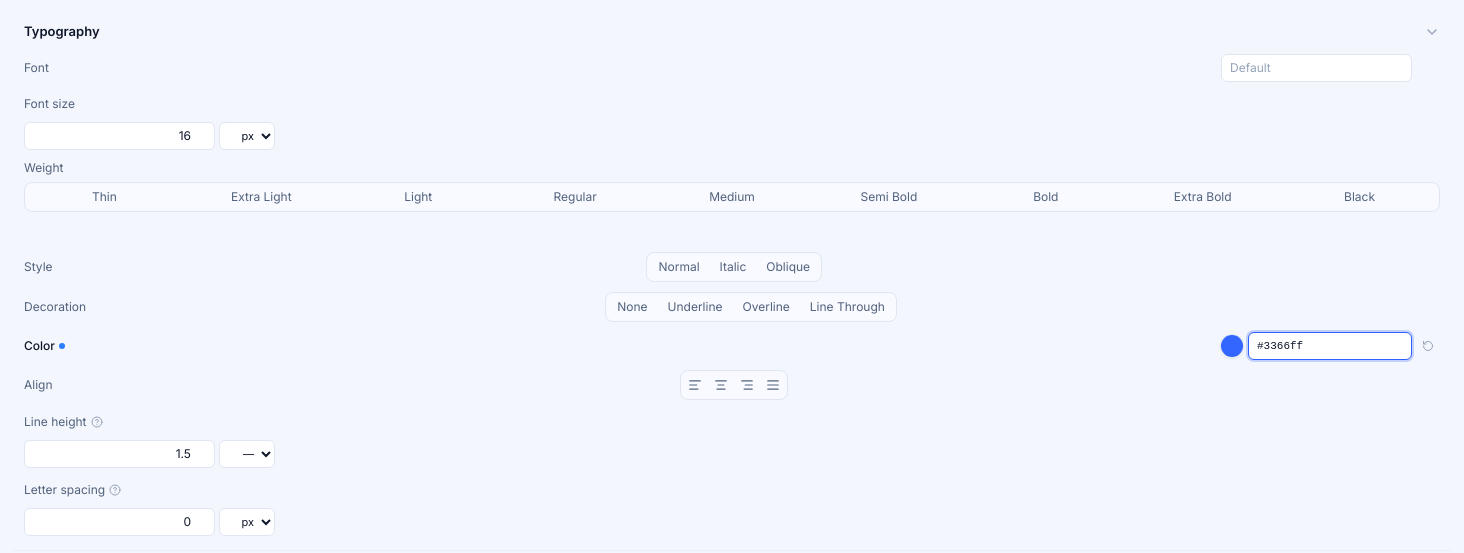
InspectorTypographySection › Text color edit sessions against the real store (BC-01.2) › Escape discards a changed color: document, history and dirty state untouched
Replace the text in the field named "Text color" with "#00ff00": (1330, 346) [1248, 332, 1412, 360]
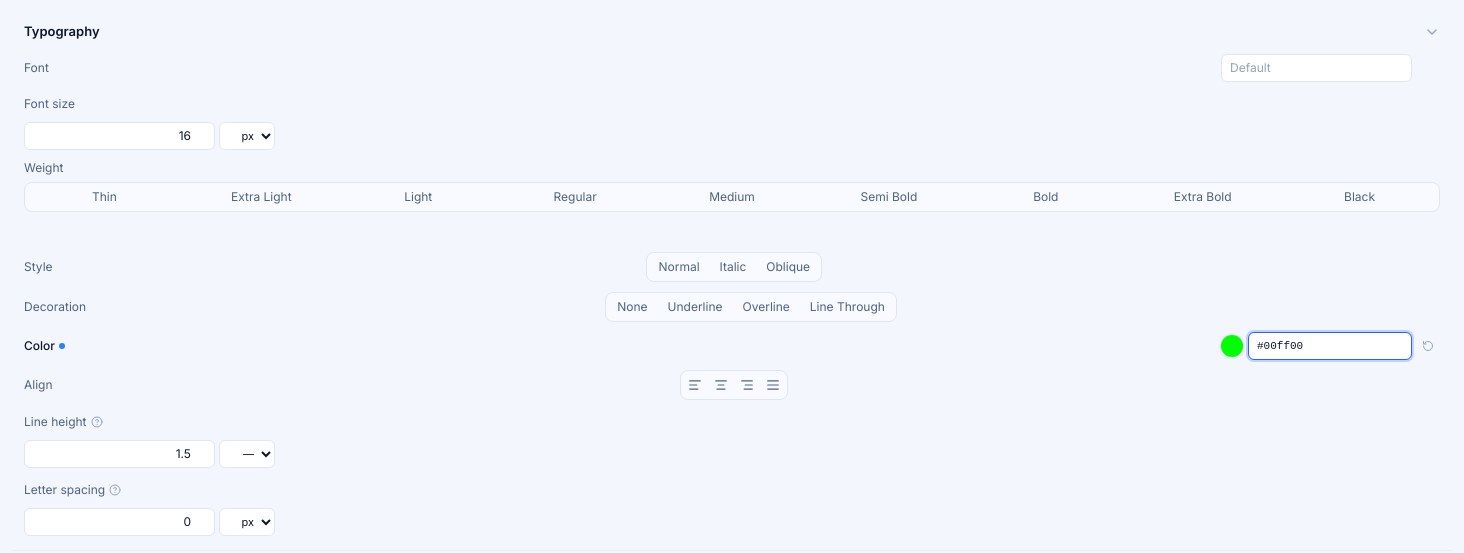
Press Escape in the field named "Text color", box [1248, 332, 1412, 360]
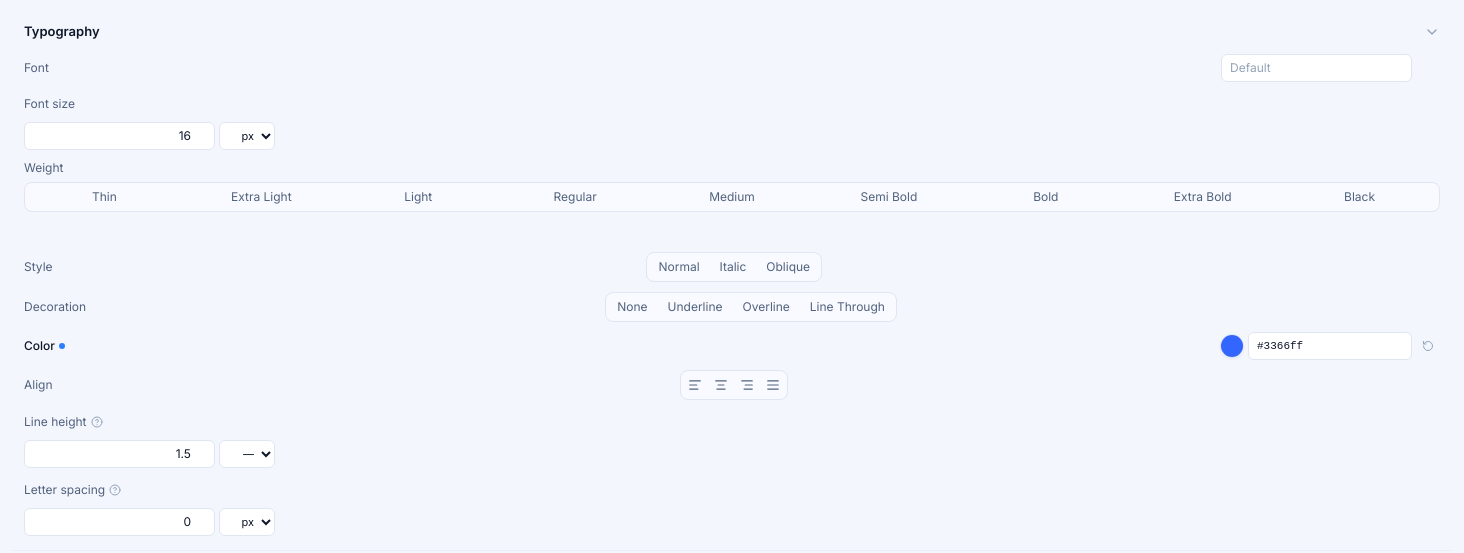
Expected: the field named "Text color" holds "#3366ff", [1248, 332, 1412, 360]
